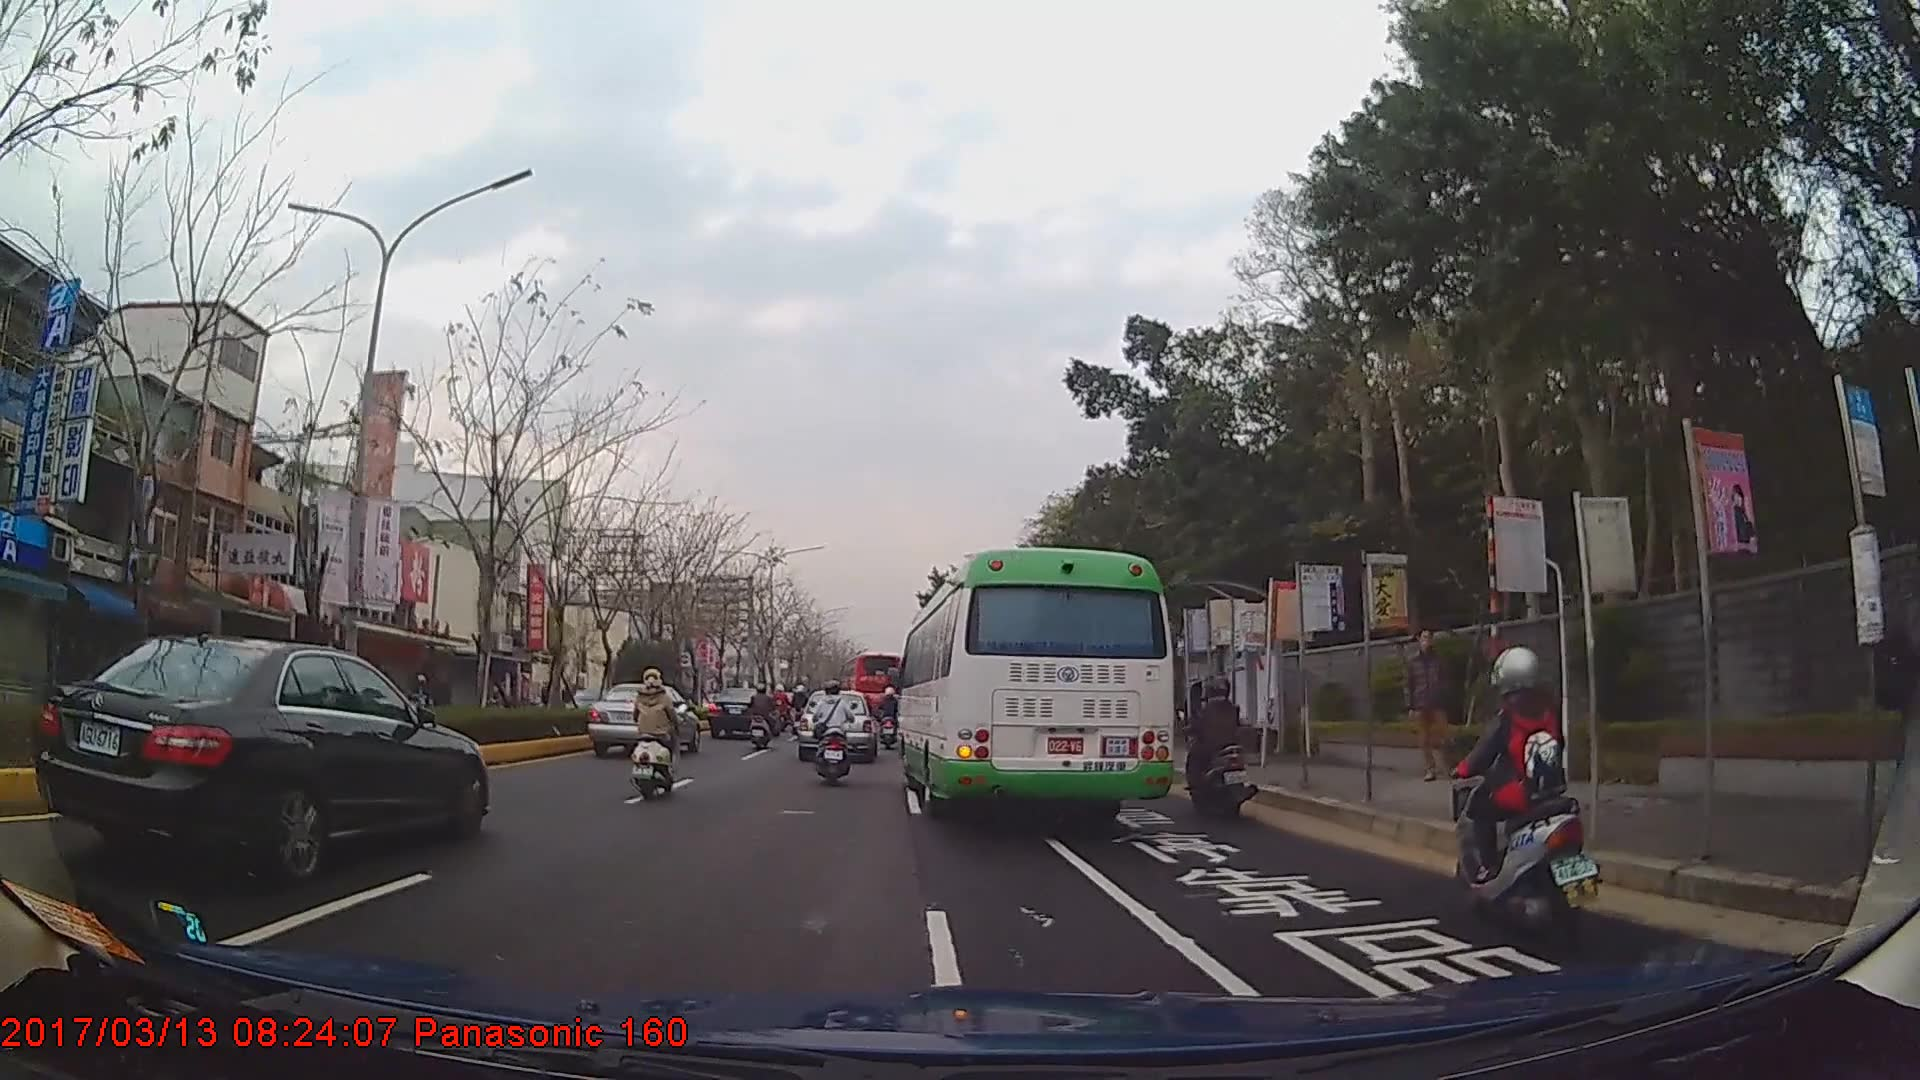pedestrian: (1871, 535, 1920, 864), (1405, 626, 1456, 781)
rider: (1446, 646, 1600, 936), (1181, 681, 1255, 821), (626, 671, 678, 799), (809, 680, 857, 782), (749, 682, 779, 753), (877, 688, 903, 735), (408, 675, 437, 709), (791, 685, 811, 724)
vehicle: (35, 632, 489, 883), (892, 545, 1175, 826), (585, 681, 699, 754), (798, 689, 880, 761), (838, 650, 900, 714), (707, 684, 776, 740)
